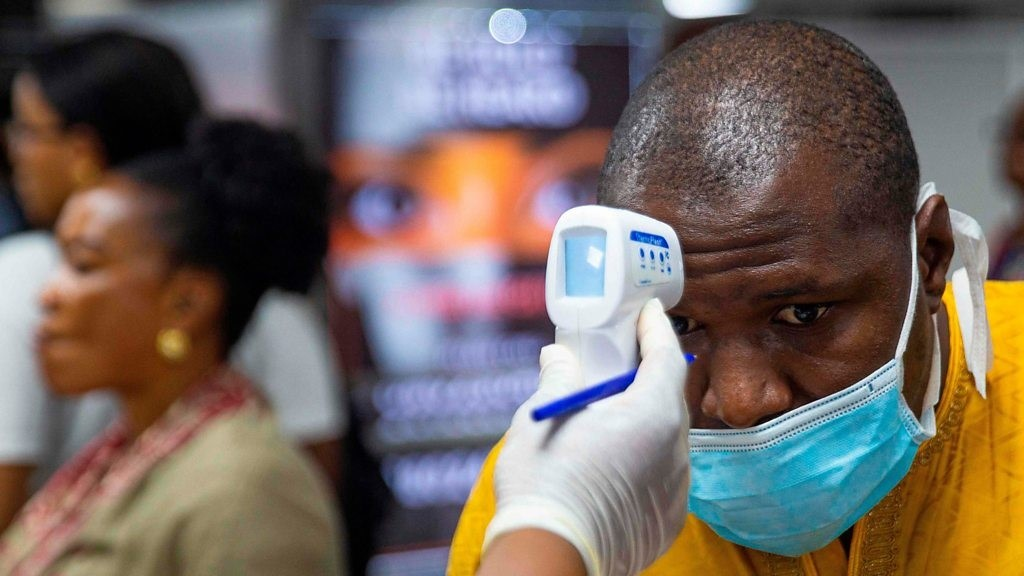face_no_mask: (30, 156, 243, 403)
face_with_mask: (591, 39, 956, 573)
